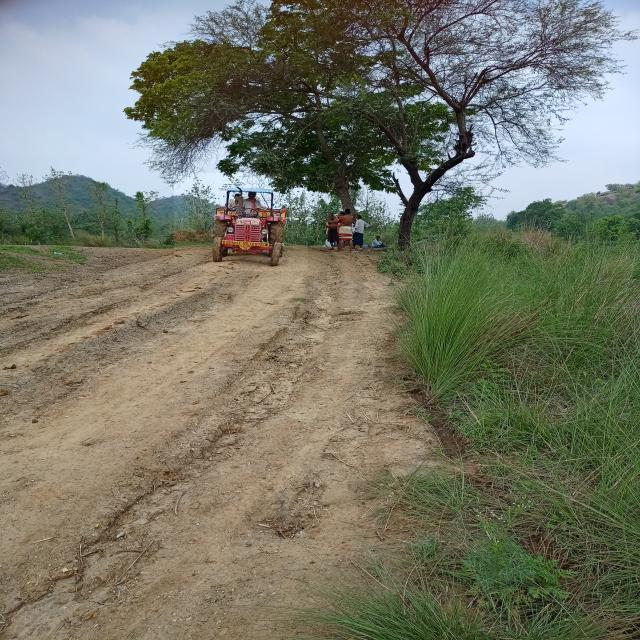Tractot: (174, 174, 308, 272)
